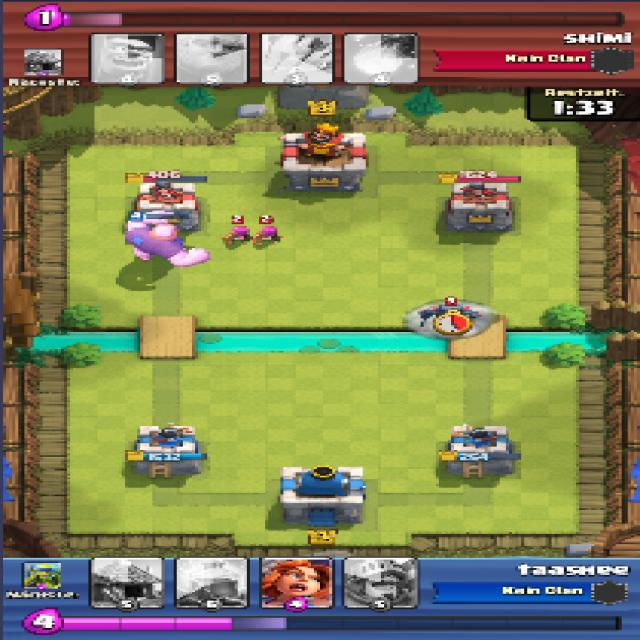Enemy-Archer: (252, 223, 282, 244), (225, 224, 252, 244)
Enemy-MiniPEKKA: (419, 305, 479, 329)
Player-Giant: (122, 211, 207, 265)
